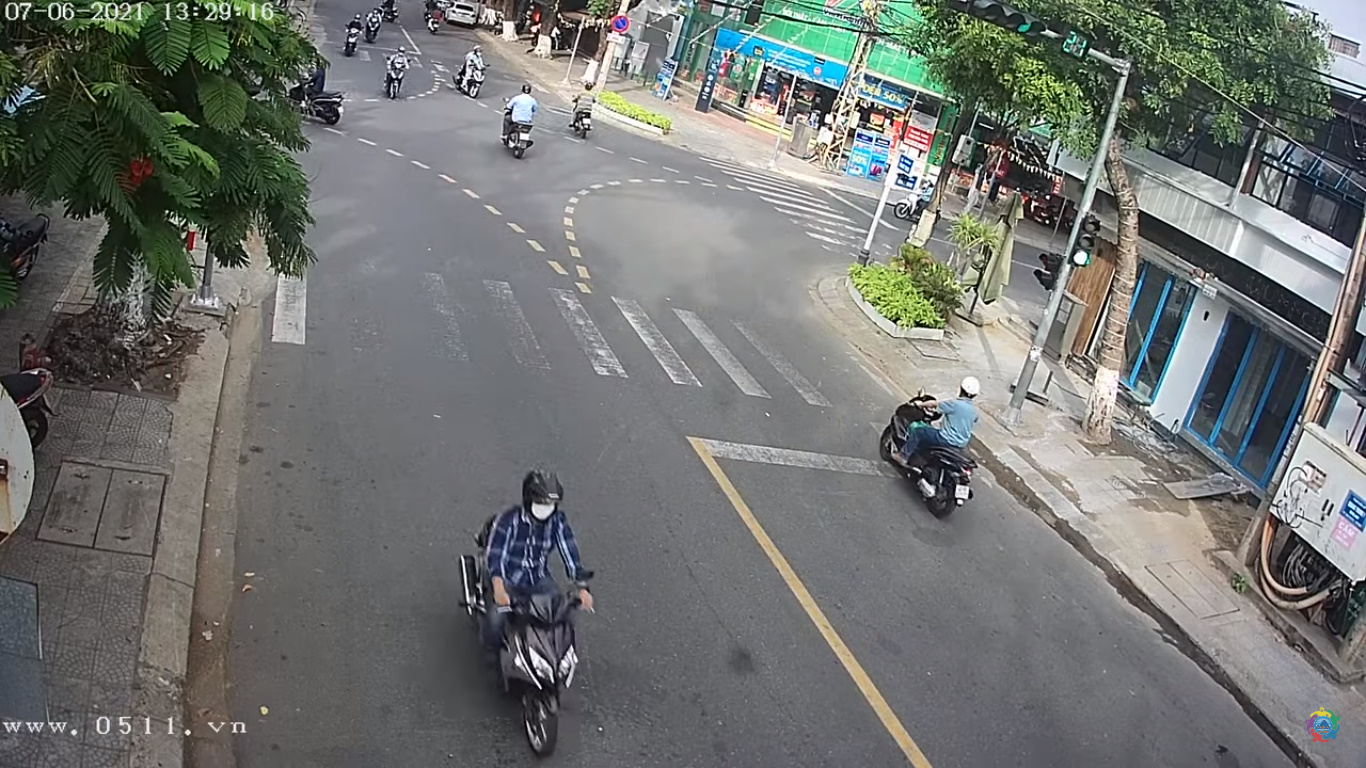motorbike: (452, 474, 607, 758)
